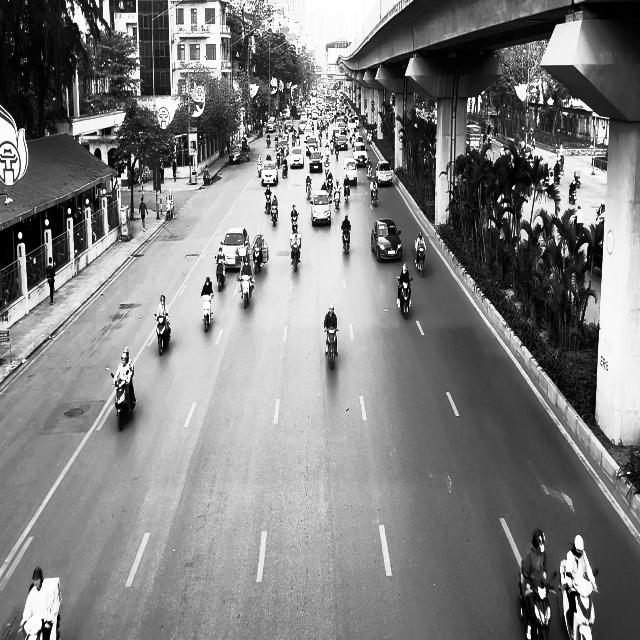car: (371, 218, 402, 262), (220, 227, 250, 270), (310, 190, 332, 226), (375, 160, 393, 186), (262, 160, 278, 185)
motorbike: (559, 558, 598, 639), (516, 562, 553, 639), (106, 367, 136, 431), (154, 314, 171, 356), (397, 276, 412, 319), (237, 273, 254, 308), (324, 327, 338, 369), (201, 293, 213, 332), (414, 241, 426, 276), (290, 235, 301, 272), (215, 255, 226, 291), (341, 225, 351, 254), (253, 246, 263, 273), (370, 182, 378, 207), (270, 204, 278, 226), (264, 193, 271, 214), (306, 178, 312, 199)
